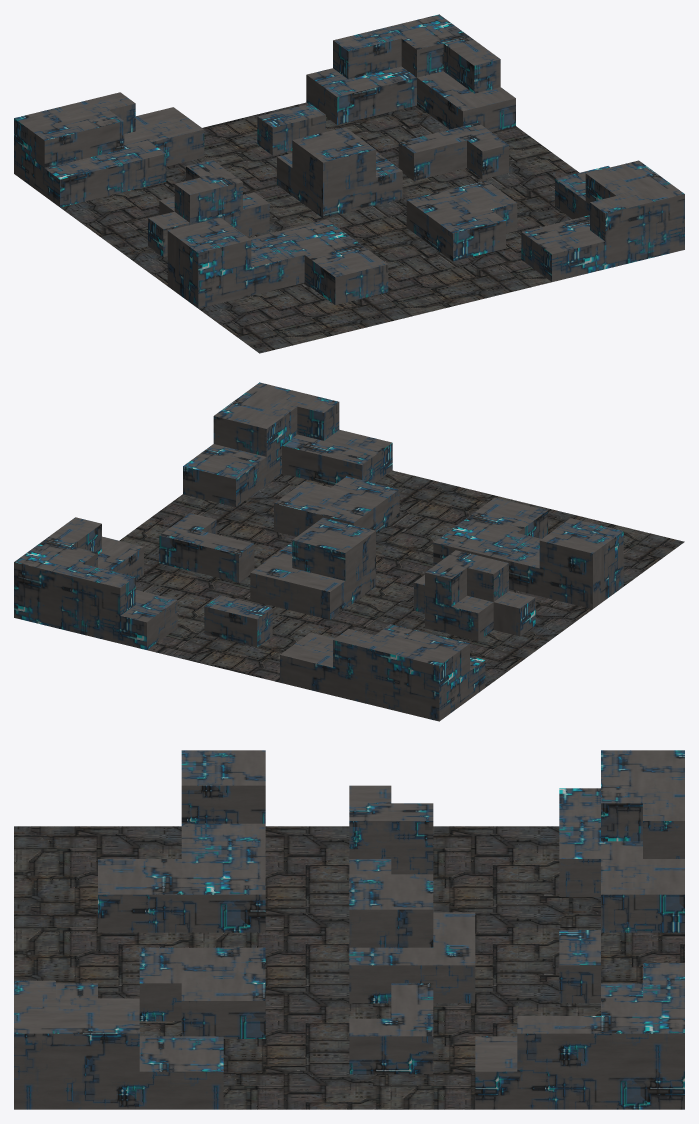
Rendered from Tile1.fbx.
The picture shows the model from 3 angles, top to bottom: view 1: azimuth 30°, elevation 25°; view 2: azimuth 150°, elevation 25°; view 3: azimuth 270°, elevation 25°; orthographic projection. The views are drawn at different scales.
Parts seen in each view (by area): view 1: Maze2; view 2: Maze2; view 3: Maze2.
Part boxes in pixels (<box>): Maze2: <box>14,14,684,353</box>; Maze2: <box>14,382,684,721</box>; Maze2: <box>14,750,684,1109</box>.
Bounding box in the file's own units: 1600 × 200 × 1600.
